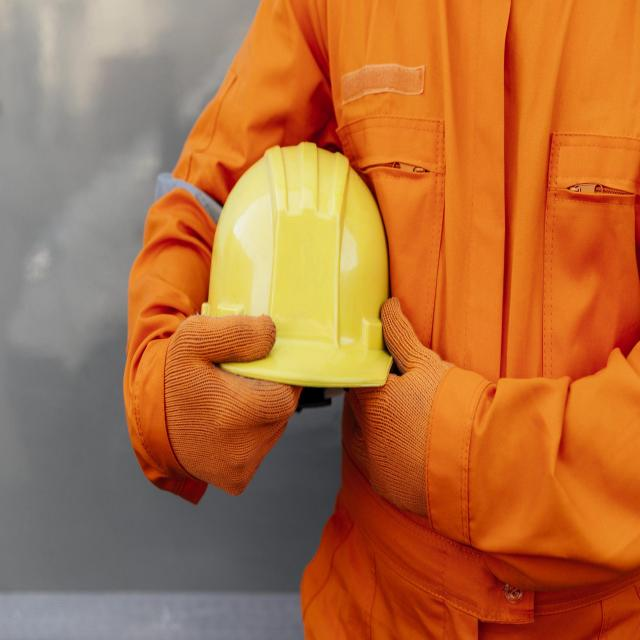Safety-Helmet: (200, 140, 396, 390)
